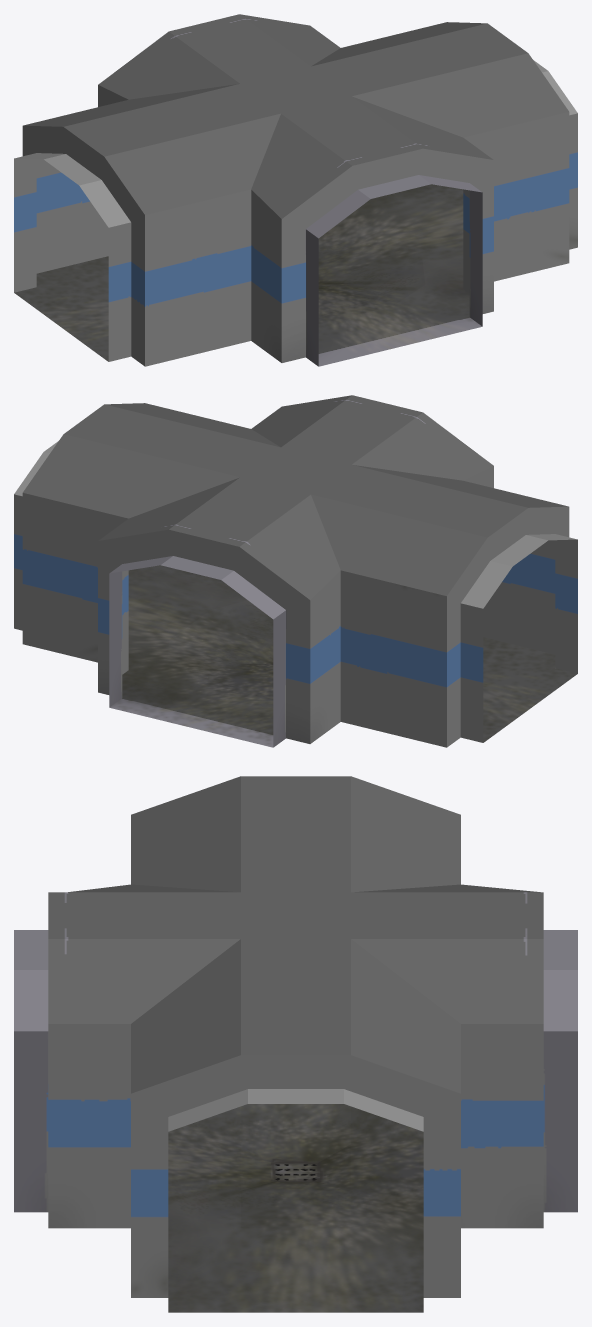
The model's file is station.obj.
3 views of the same model, one above another, from view 1: azimuth 30°, elevation 25°; view 2: azimuth 150°, elevation 25°; view 3: azimuth 270°, elevation 25° (orthographic). The views are drawn at different scales.
Parts seen in each view (by area): view 1: Cube; view 2: Cube; view 3: Cube.
Part boxes in pixels (<box>): Cube: <box>14,14,577,366</box>; Cube: <box>14,395,577,747</box>; Cube: <box>14,776,577,1312</box>.
Size of the model in its own units: 8.85 by 3.43 by 6.84.
1 material, 1 textured.
